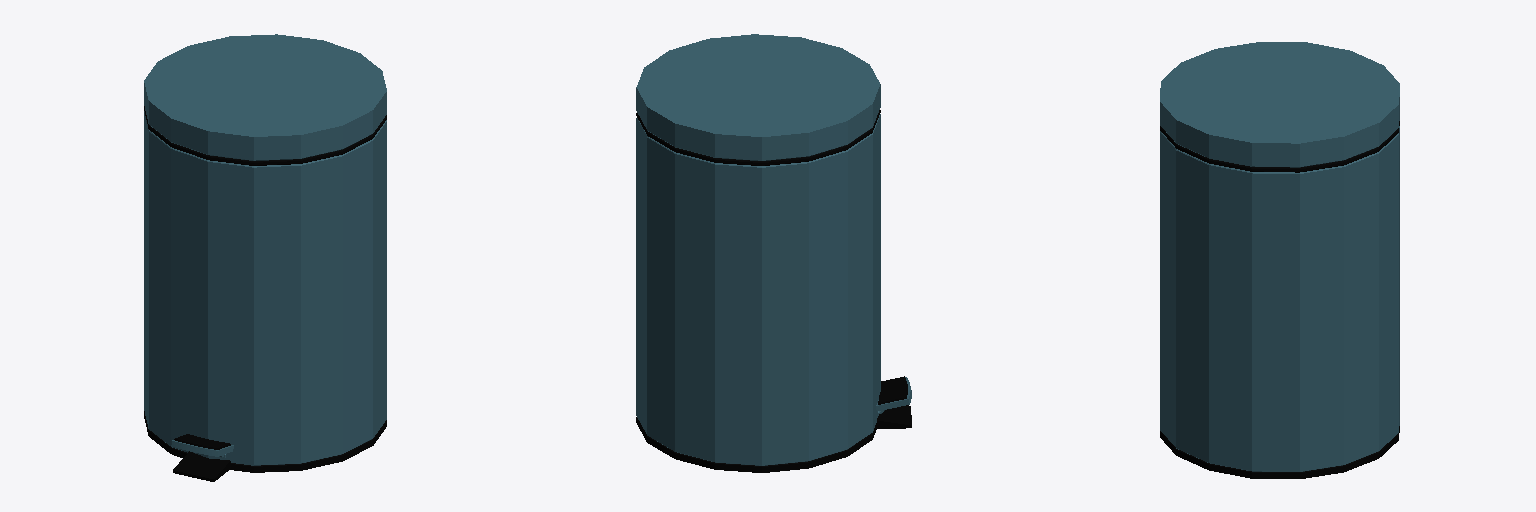
The model's file is trash_can.obj.
3 views of the same model, side by side, from view 1: azimuth 30°, elevation 25°; view 2: azimuth 150°, elevation 25°; view 3: azimuth 270°, elevation 25° (orthographic).
Visible parts, largest first — view 1: trash_can; view 2: trash_can; view 3: trash_can.
Boxes of the visible parts, x1,y1,x2,y2 form: trash_can: [144, 34, 386, 481]; trash_can: [636, 34, 911, 472]; trash_can: [1160, 42, 1399, 478].
Bounding box in the file's own units: 31.22 × 44 × 28.61.